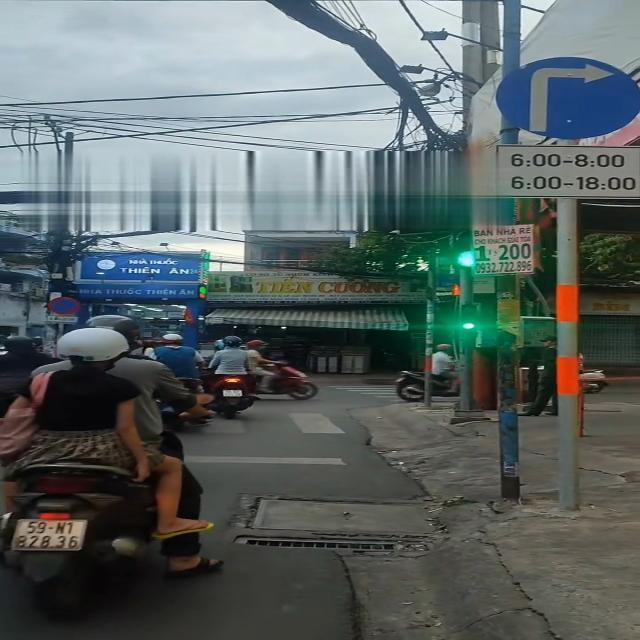301d-cac-xe-chi-duoc-re-phai-2: (494, 56, 640, 140)
